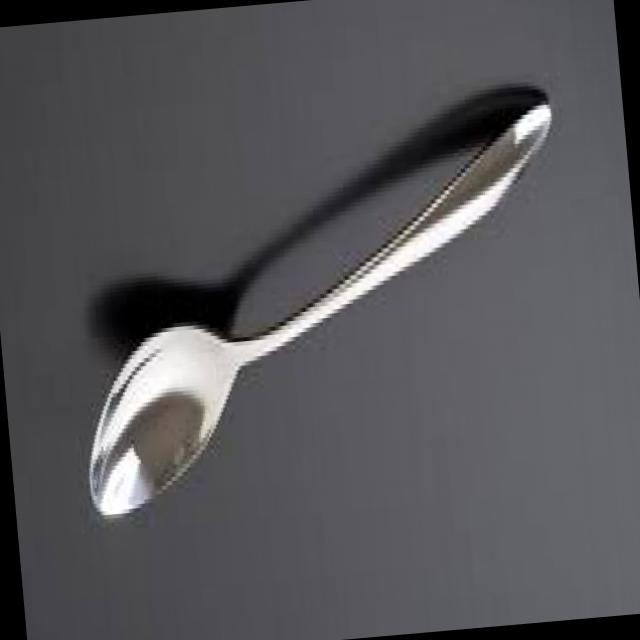spoon: (55, 87, 590, 531)
